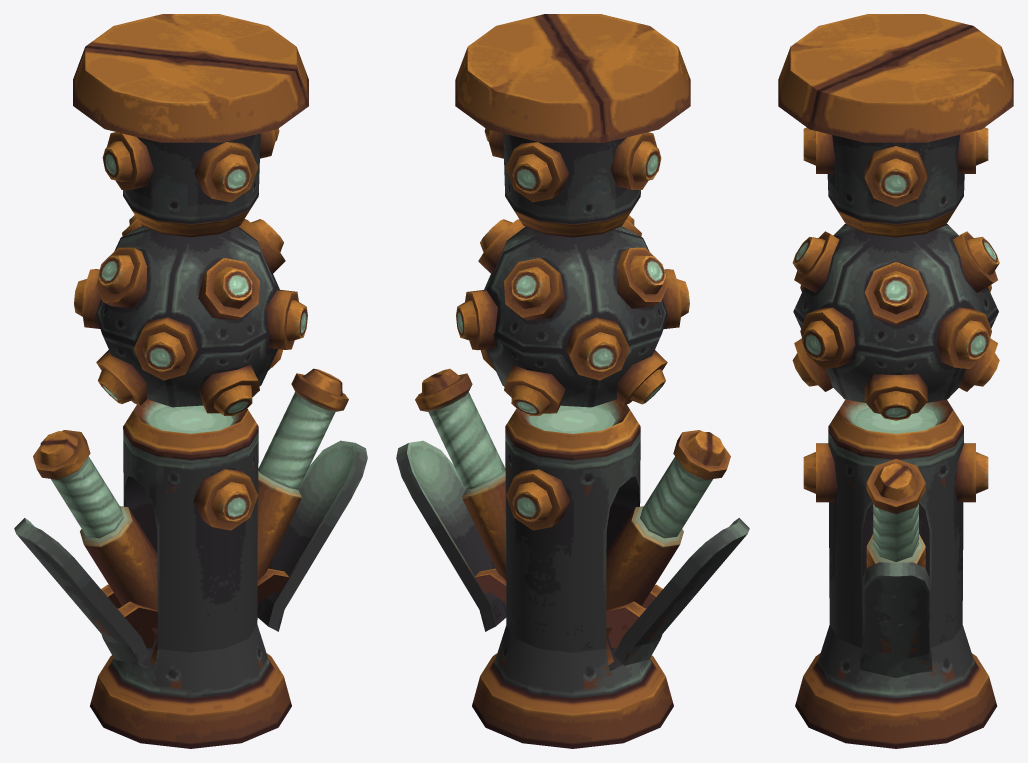
The model's file is vault_electric_trap_01_a0378836.glb.
The picture shows the model from 3 angles, left to right: view 1: azimuth 30°, elevation 25°; view 2: azimuth 150°, elevation 25°; view 3: azimuth 270°, elevation 25°; orthographic projection.
Size of the model in its own units: 3.14 by 5.55 by 1.83.
1 material, 1 textured.
